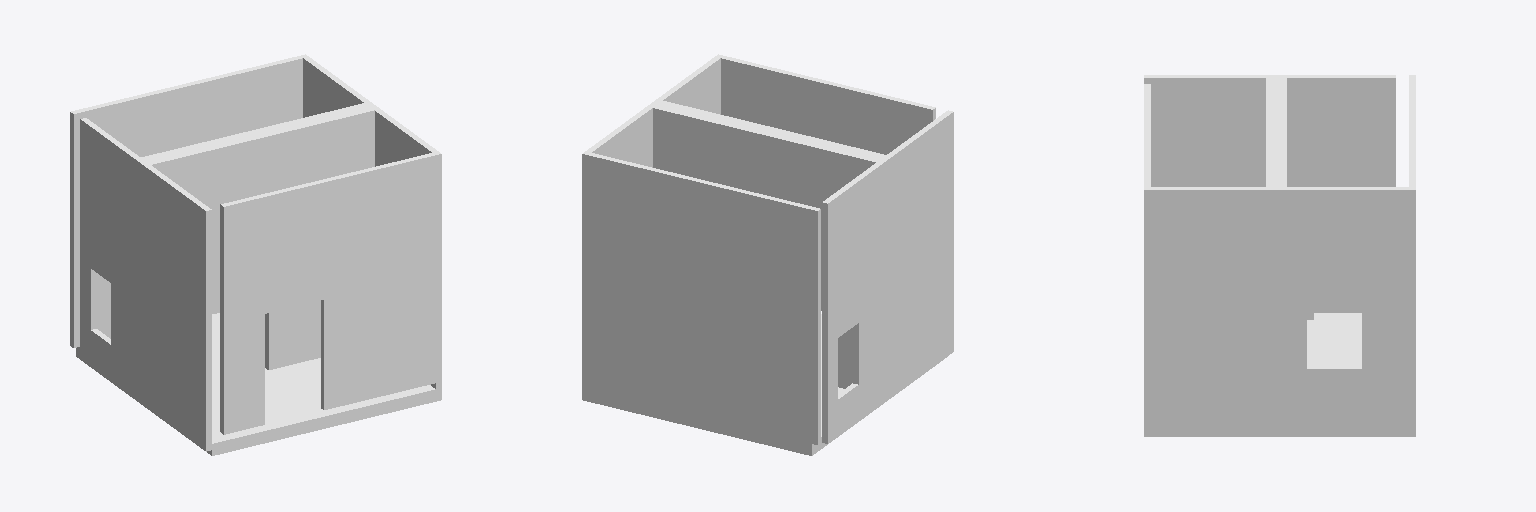
File: RoomPrueba.obj
The picture shows the model from 3 angles: view 1: azimuth 30°, elevation 25°; view 2: azimuth 150°, elevation 25°; view 3: azimuth 270°, elevation 25°; orthographic projection.
Parts seen in each view (by area): view 1: object 1; view 2: object 1; view 3: object 1.
Boxes of the visible parts, x1,y1,x2,y2 form: object 1: [70, 54, 441, 455]; object 1: [582, 54, 953, 455]; object 1: [1144, 75, 1415, 436].
Bounding box in the file's own units: 4 × 4 × 4.